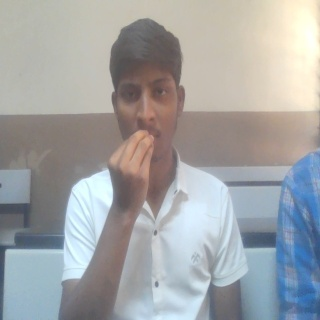Food: (106, 129, 156, 224)
